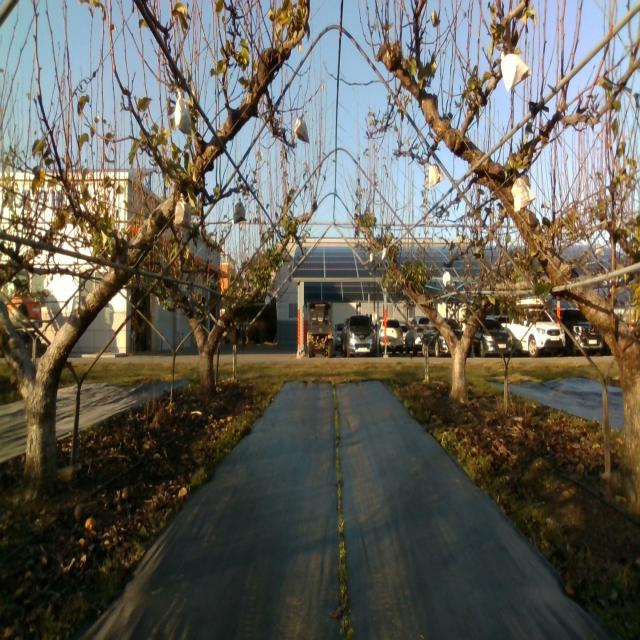pearbags: (500, 52, 531, 92), (511, 177, 537, 212), (175, 86, 192, 137), (174, 193, 191, 228), (294, 115, 310, 144), (428, 162, 445, 187), (232, 198, 247, 224), (442, 266, 453, 288)
